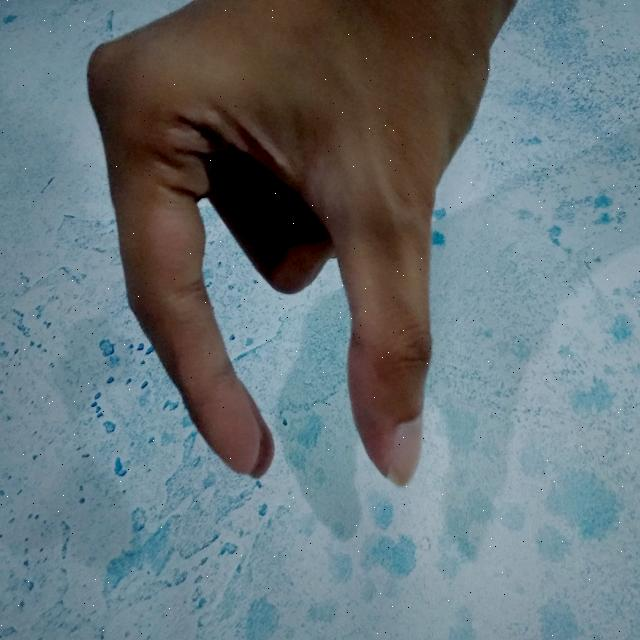Q: (72, 0, 575, 506)
